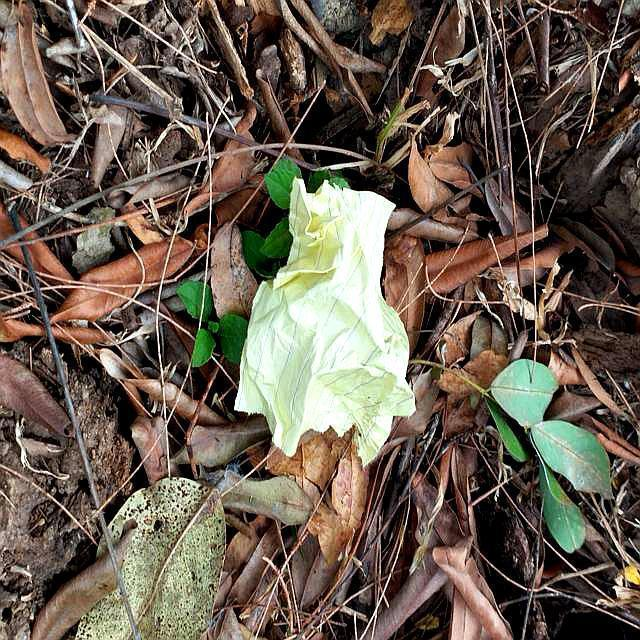Biodegradable: (235, 176, 419, 468)
